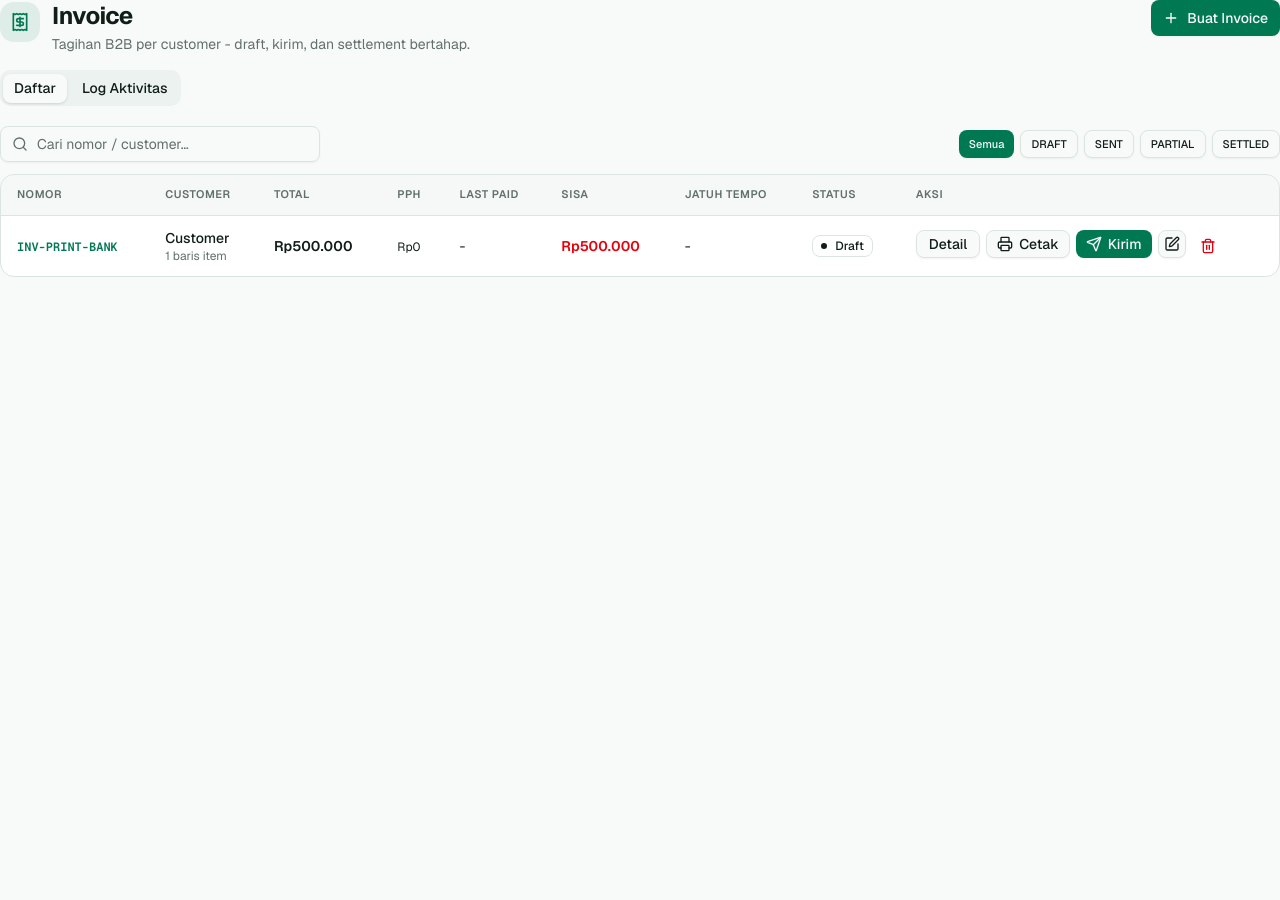
responsive transport finance and bank management › lets invoice editors choose an active account
The image size is (1280, 900).
Step 1. Click the button "Buat Invoice" → {"x": 1216, "y": 18}, box [1151,0,1279,36]
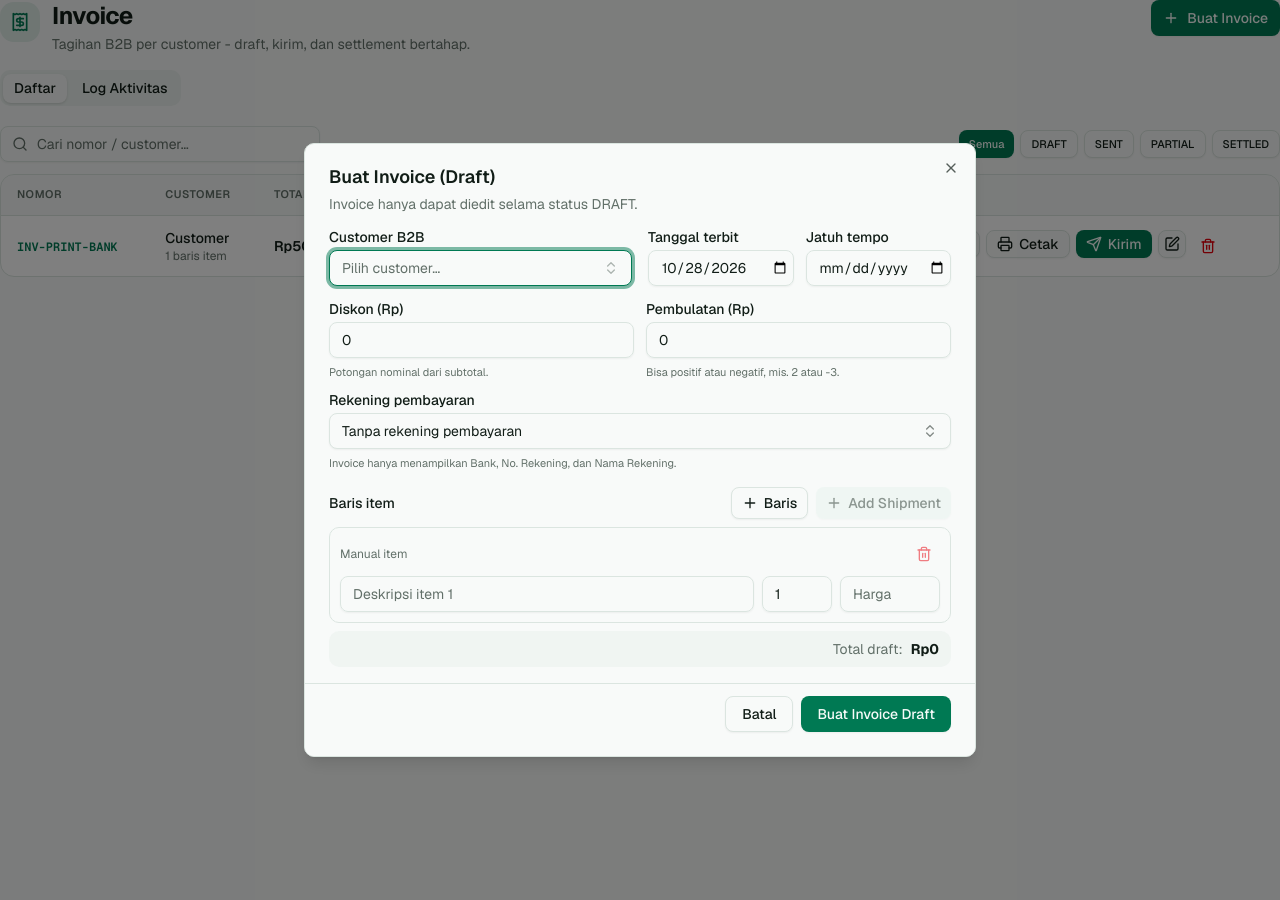
Step 2. Press ArrowDown in the dropdown labelled "rekening pembayaran", box [329,412,951,448]
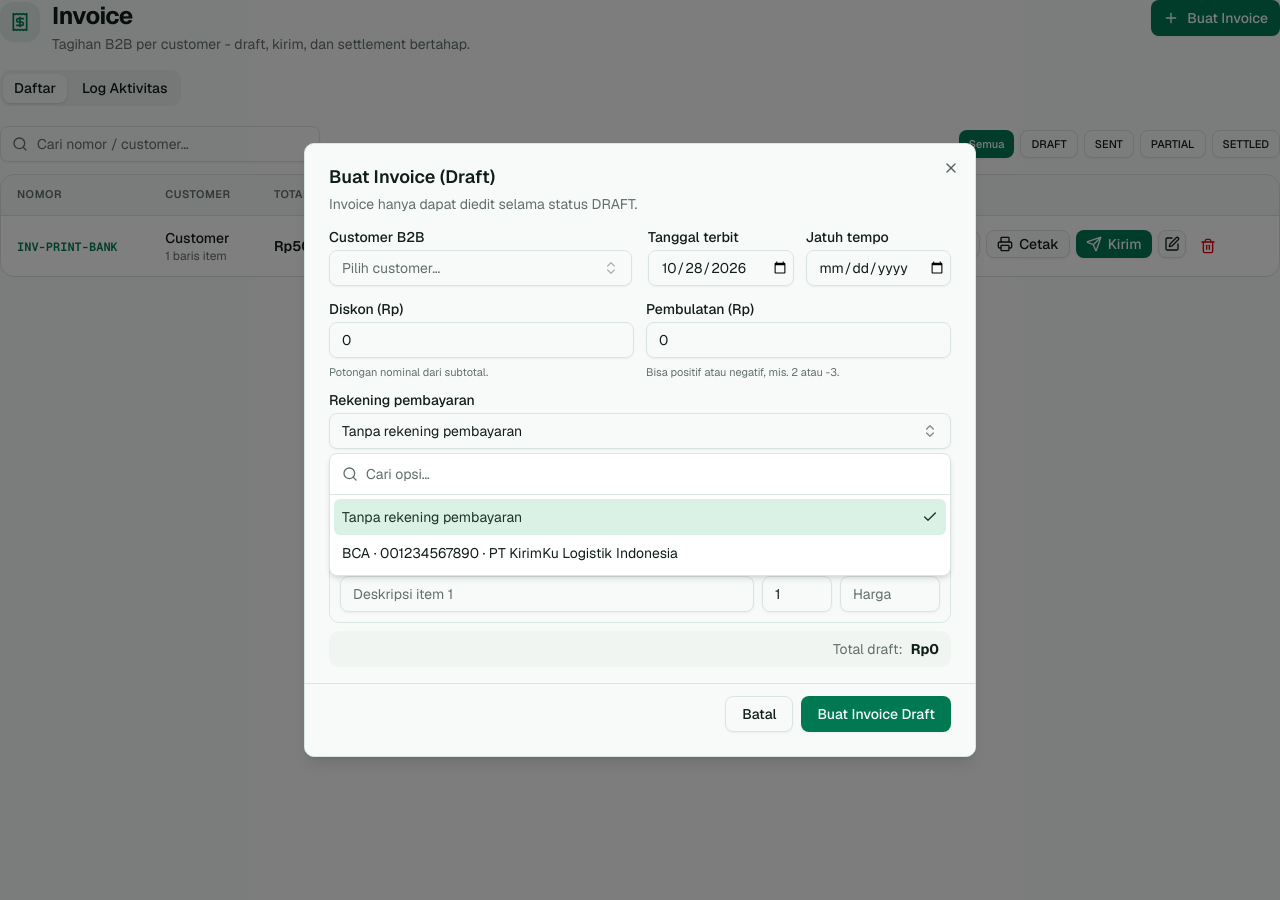
Step 3. Click the option "BCA · 001234567890 · PT KirimKu Logistik Indonesia" → {"x": 510, "y": 553}, box [342,544,678,562]
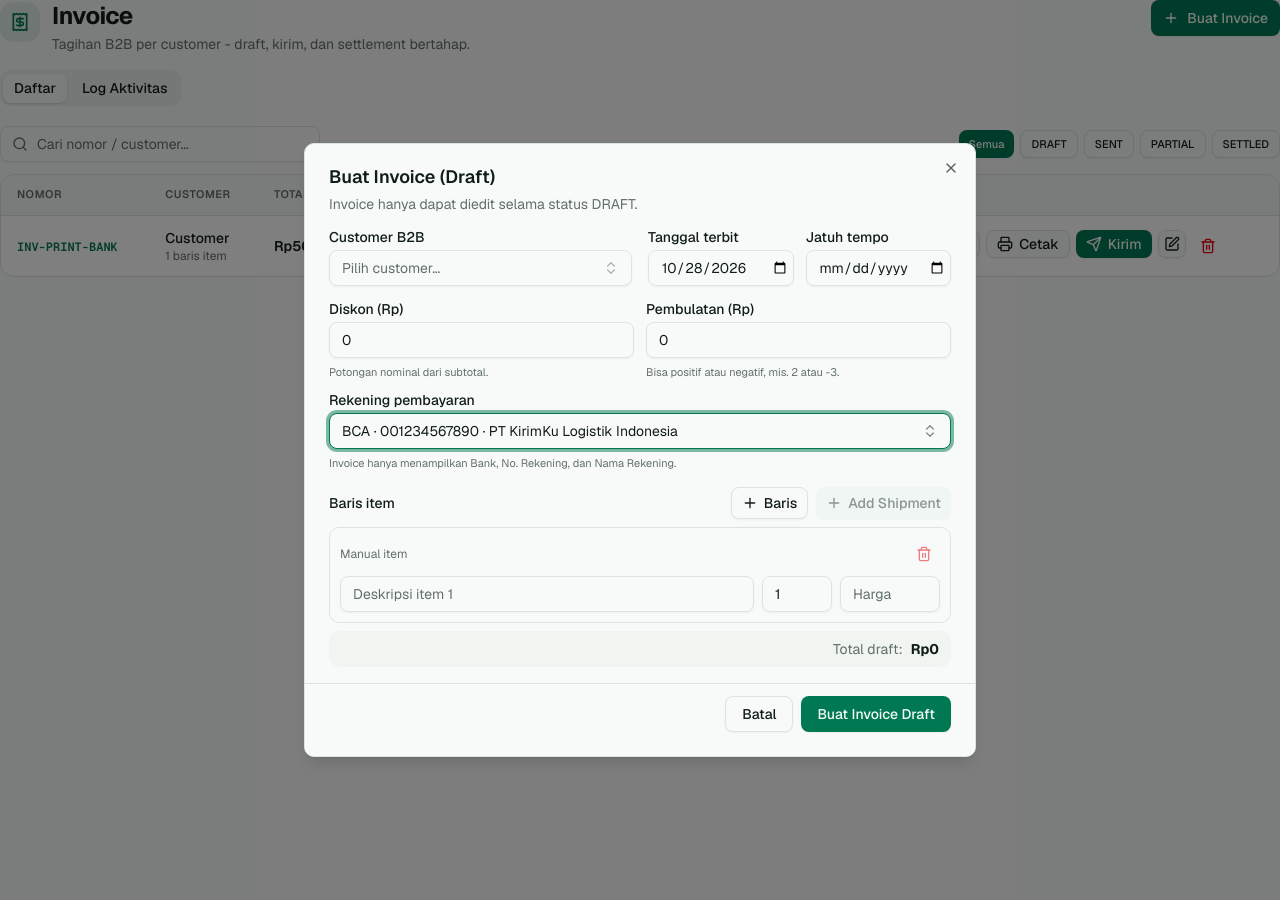
expect the dropdown named "Rekening pembayaran" shows "001234567890": met, box [329,412,951,448]
